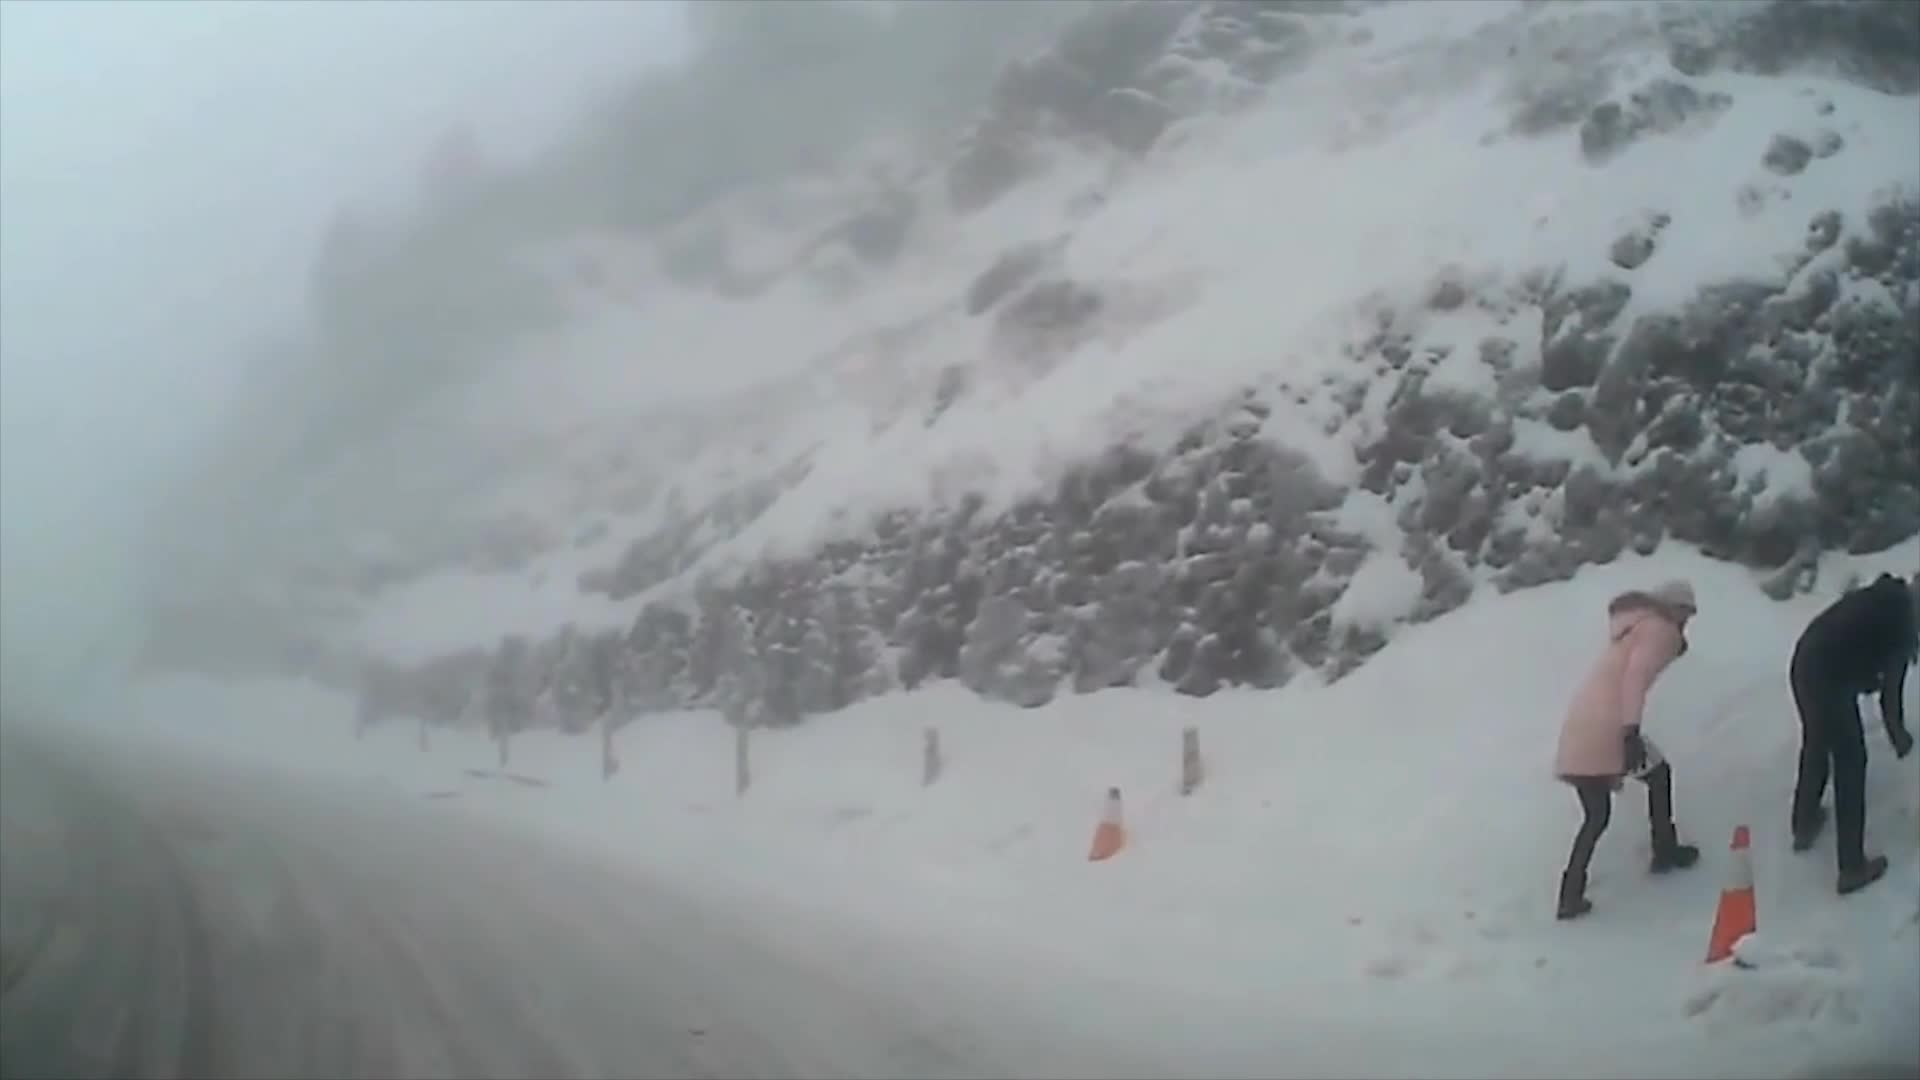pedestrian: (1557, 583, 1712, 923), (1789, 576, 1919, 899)
